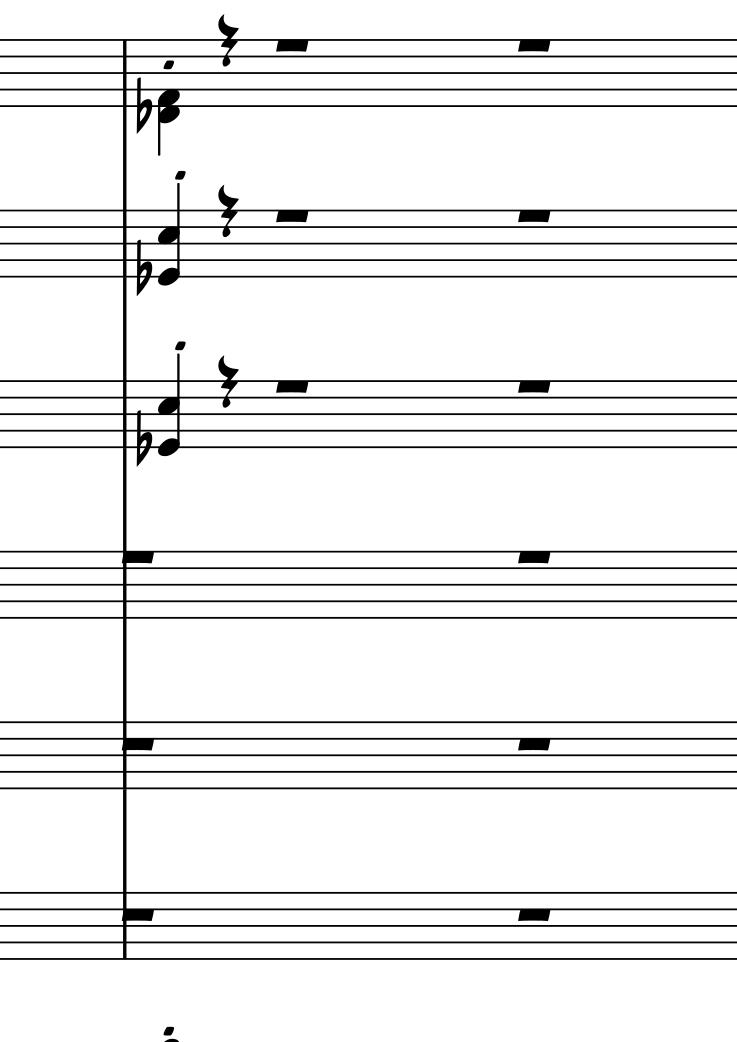4_-1_1: (157, 37, 181, 156)
4_0_5: (157, 180, 182, 286), (156, 352, 181, 458)
Flat: (132, 237, 156, 296), (132, 410, 154, 467), (134, 80, 152, 133)
Rests1: (269, 372, 322, 399), (509, 544, 557, 571), (512, 730, 556, 756), (271, 207, 322, 229), (509, 205, 557, 228), (118, 903, 165, 926), (511, 905, 557, 928), (270, 35, 317, 55), (512, 34, 556, 55), (512, 375, 560, 394), (118, 731, 158, 753), (120, 547, 159, 565)
Rests4: (216, 185, 241, 241), (217, 15, 241, 71), (217, 358, 241, 413)
Single_barline: (115, 892, 135, 960), (115, 552, 135, 620), (115, 723, 135, 788), (115, 381, 134, 447), (116, 210, 133, 278), (116, 40, 133, 106)
